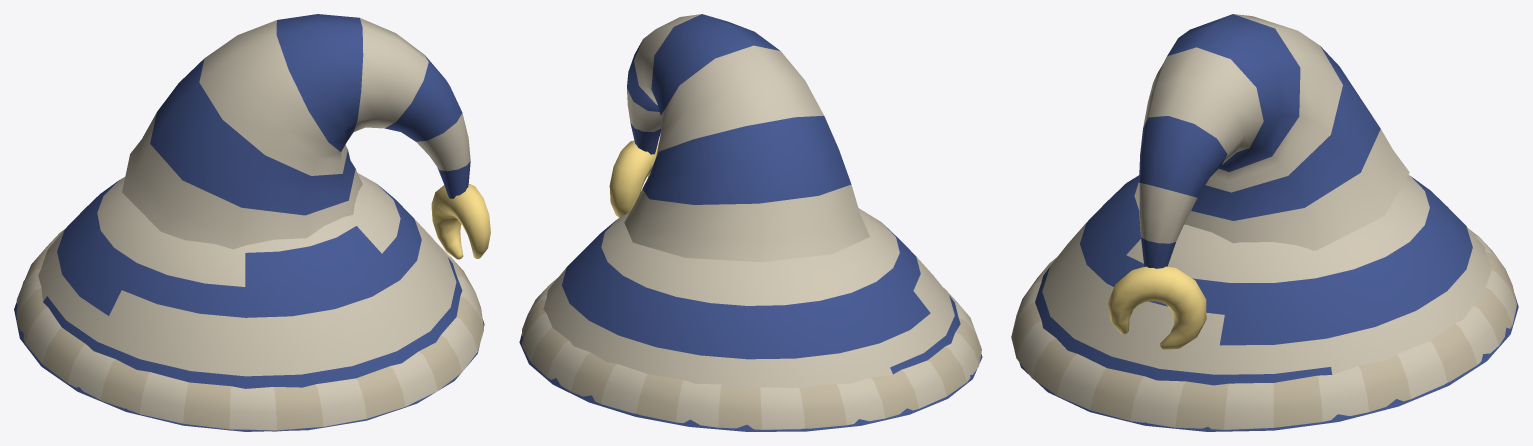
The picture shows the model from 3 angles, left to right: view 1: azimuth 30°, elevation 25°; view 2: azimuth 150°, elevation 25°; view 3: azimuth 270°, elevation 25°; orthographic projection. The views are drawn at different scales.
Parts seen in each view (by area): view 1: h_nightcap; view 2: h_nightcap; view 3: h_nightcap.
Boxes of the visible parts, bbox=[...] form: h_nightcap: bbox=[14, 14, 490, 431]; h_nightcap: bbox=[519, 14, 982, 431]; h_nightcap: bbox=[1011, 14, 1518, 431].
Size of the model in its own units: 0.8569 by 0.6342 by 0.8549.
